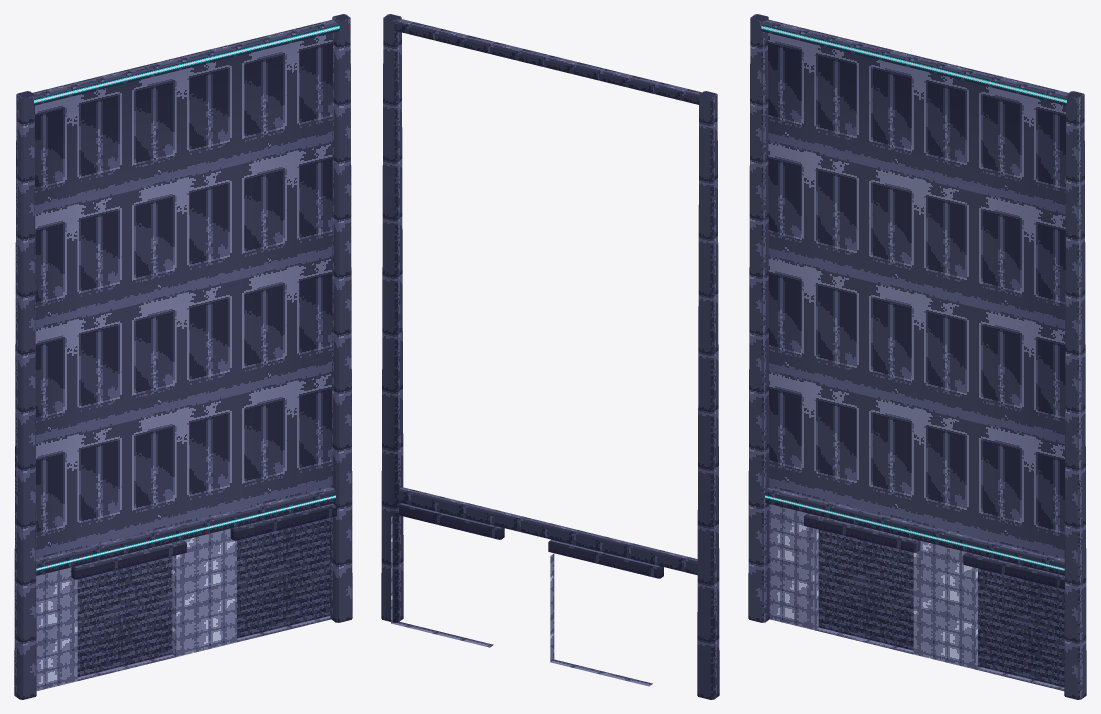
The model's file is cytower.facade__canyon.glb.
3 views of the same model, side by side, from view 1: azimuth 30°, elevation 25°; view 2: azimuth 150°, elevation 25°; view 3: azimuth 330°, elevation 25° (orthographic).
Visible parts, largest first — view 1: kit_shell_front, kit_trim, kit_card_windows; view 2: kit_trim, kit_shell_front; view 3: kit_shell_front, kit_trim, kit_card_windows.
Boxes of the visible parts, x1,y1,x2,y2 form: kit_shell_front: (35,33,332,690); kit_trim: (14,14,352,699); kit_card_windows: (34,25,339,571); kit_trim: (381,14,719,699); kit_shell_front: (391,516,652,686); kit_shell_front: (768,33,1065,690); kit_trim: (748,14,1086,699); kit_card_windows: (761,25,1066,571).
Bounding box in the file's own units: 12.12 × 20.9 × 0.6.
Materials: 9 (9 with a texture image).
